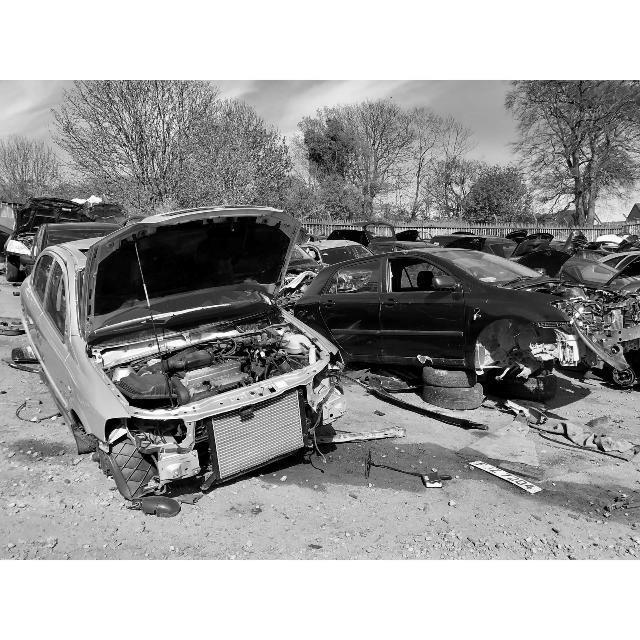Headlight-damage: (117, 411, 187, 453)
doorouter-dent: (312, 291, 375, 357)
front-bumper-dent: (188, 399, 335, 459)
